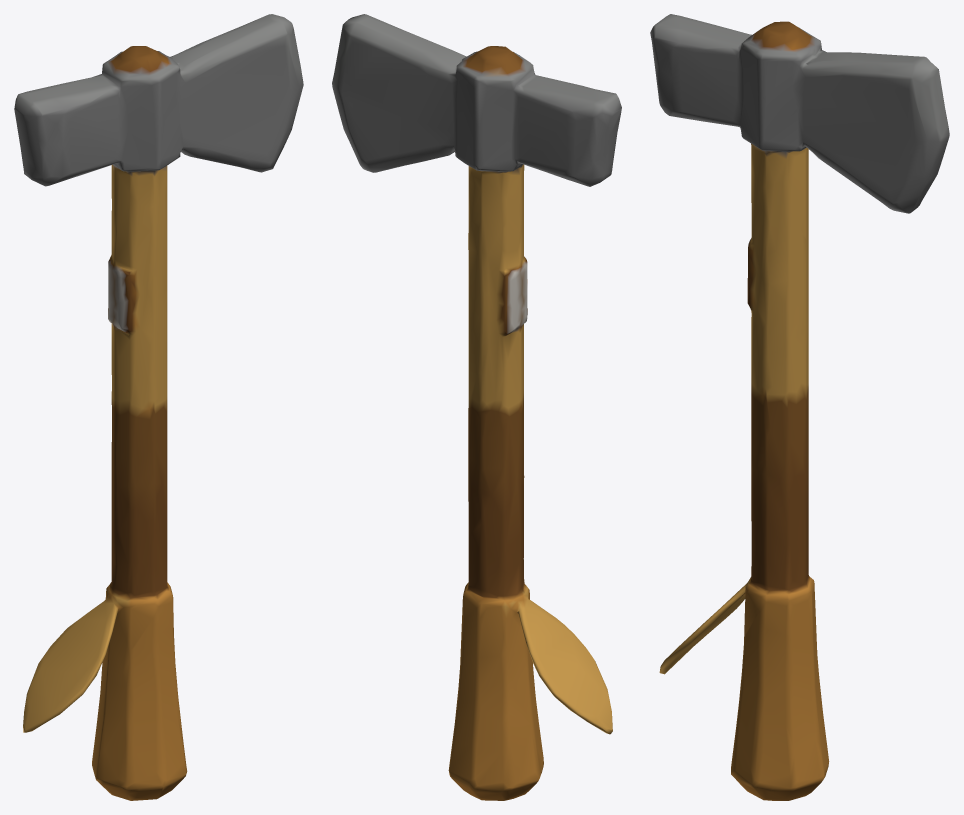
Rendered from gen3d-tomahawk-lod0.glb.
The picture shows the model from 3 angles, left to right: view 1: azimuth 30°, elevation 25°; view 2: azimuth 150°, elevation 25°; view 3: azimuth 330°, elevation 25°; orthographic projection. The views are drawn at different scales.
Parts seen in each view (by area): view 1: part_0; view 2: part_0; view 3: part_0.
Part boxes in pixels (x1=…): part_0: x1=14, y1=14, x2=303, y2=800; part_0: x1=332, y1=14, x2=621, y2=800; part_0: x1=650, y1=14, x2=949, y2=800.
Bounding box in the file's own units: 0.3988 × 0.9995 × 0.1214.
